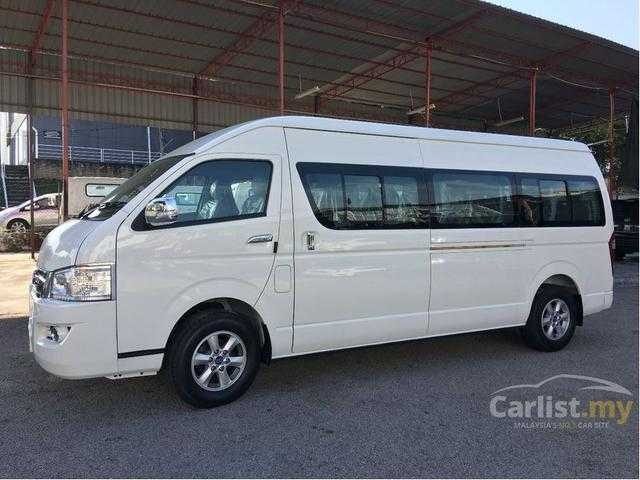car: (1, 193, 61, 234)
van: (28, 113, 614, 409)
